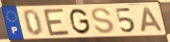0: (23, 9, 45, 38)
5: (114, 7, 137, 34)
A: (140, 6, 164, 33)
E: (42, 7, 72, 38)
G: (69, 8, 93, 36)
S: (90, 7, 116, 35)
